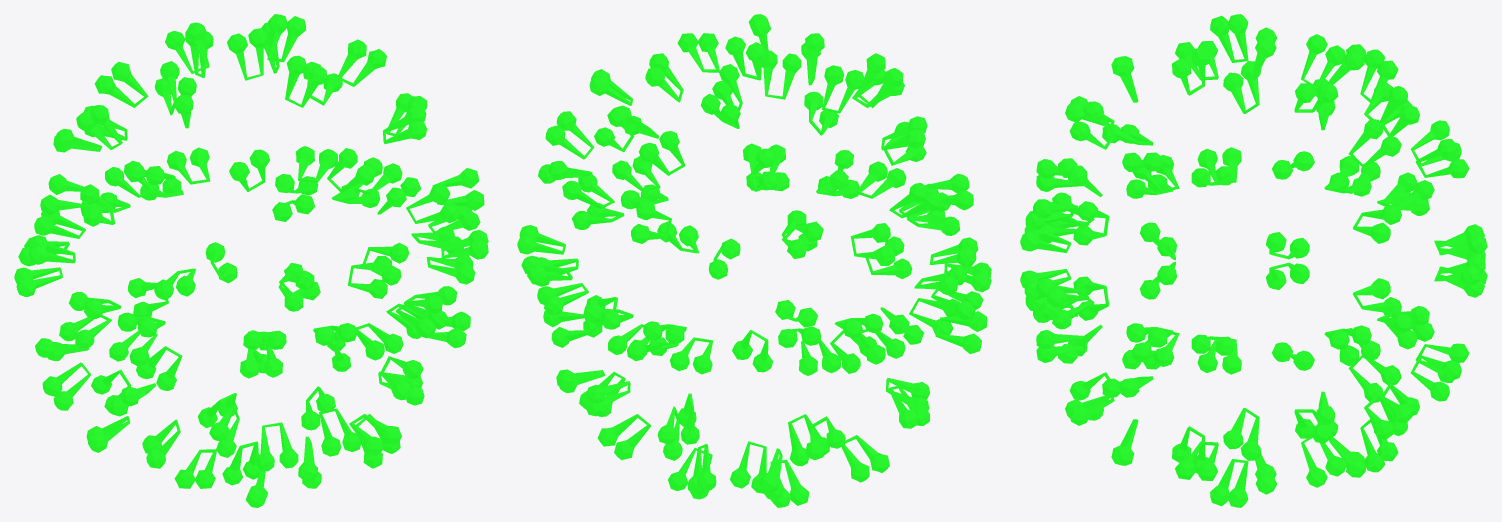
File: proteinaM.fbx
3 views of the same model, side by side, from view 1: azimuth 30°, elevation 25°; view 2: azimuth 150°, elevation 25°; view 3: azimuth 270°, elevation 25° (orthographic).
Visible parts, largest first — view 1: M-Protein; view 2: M-Protein; view 3: M-Protein.
Part boxes in pixels (x1,y1,x2,y2): M-Protein: (14, 14, 488, 507); M-Protein: (517, 14, 991, 507); M-Protein: (1020, 14, 1487, 507).
Size of the model in its own units: 18.36 by 19.26 by 17.81.
